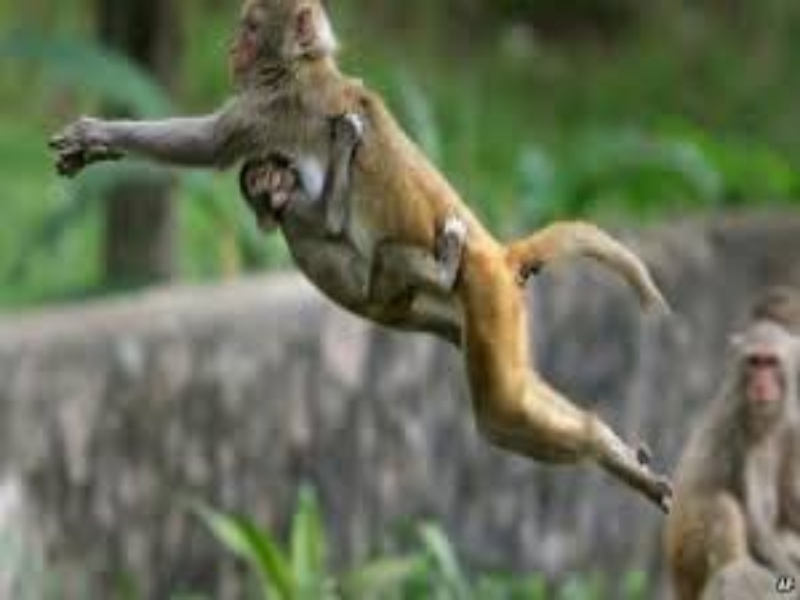monkey: (42, 1, 698, 508)
